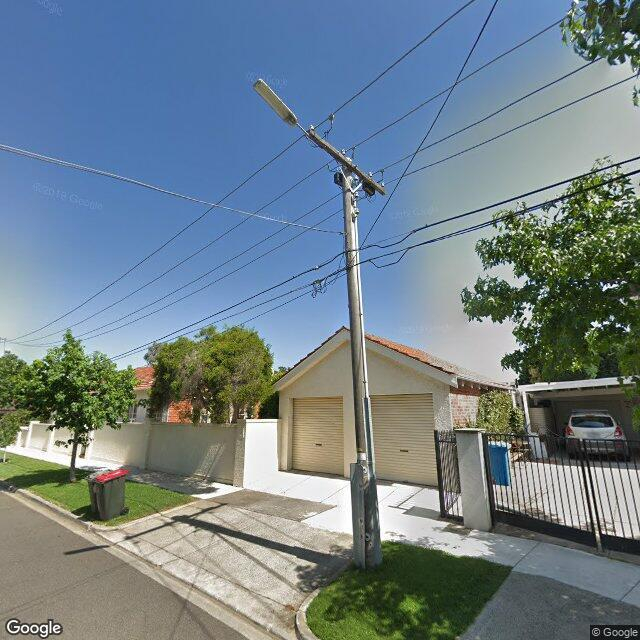crossarm: (307, 130, 385, 195)
streetlight: (253, 79, 309, 136)
timber-pole: (342, 157, 383, 568)
